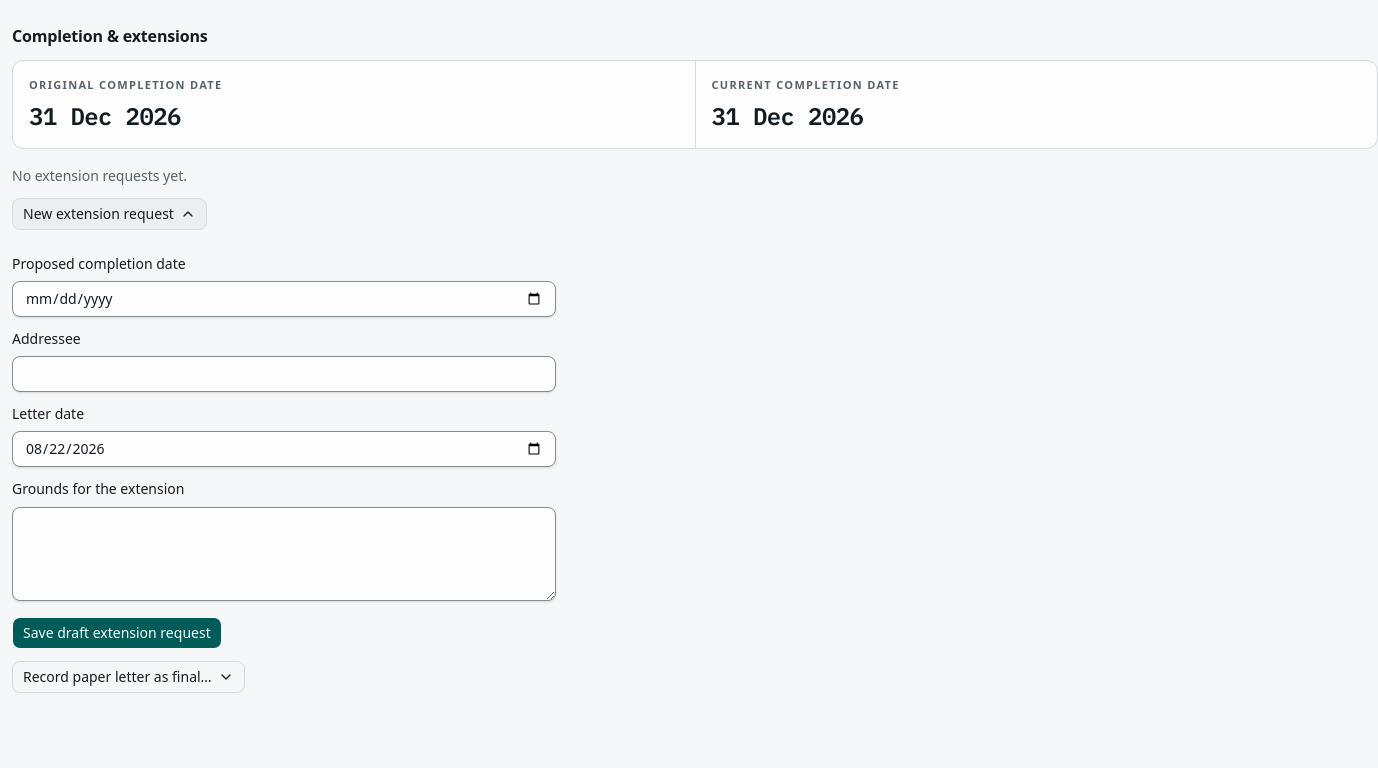
CompletionExtensions › switches to the existing draft on an EXTENSION_DRAFT_EXISTS conflict
Type "2027-03-31" into the date field labelled "Proposed completion date" at {"x": 284, "y": 299}, box top-left (12, 281), bottom-right (556, 317)
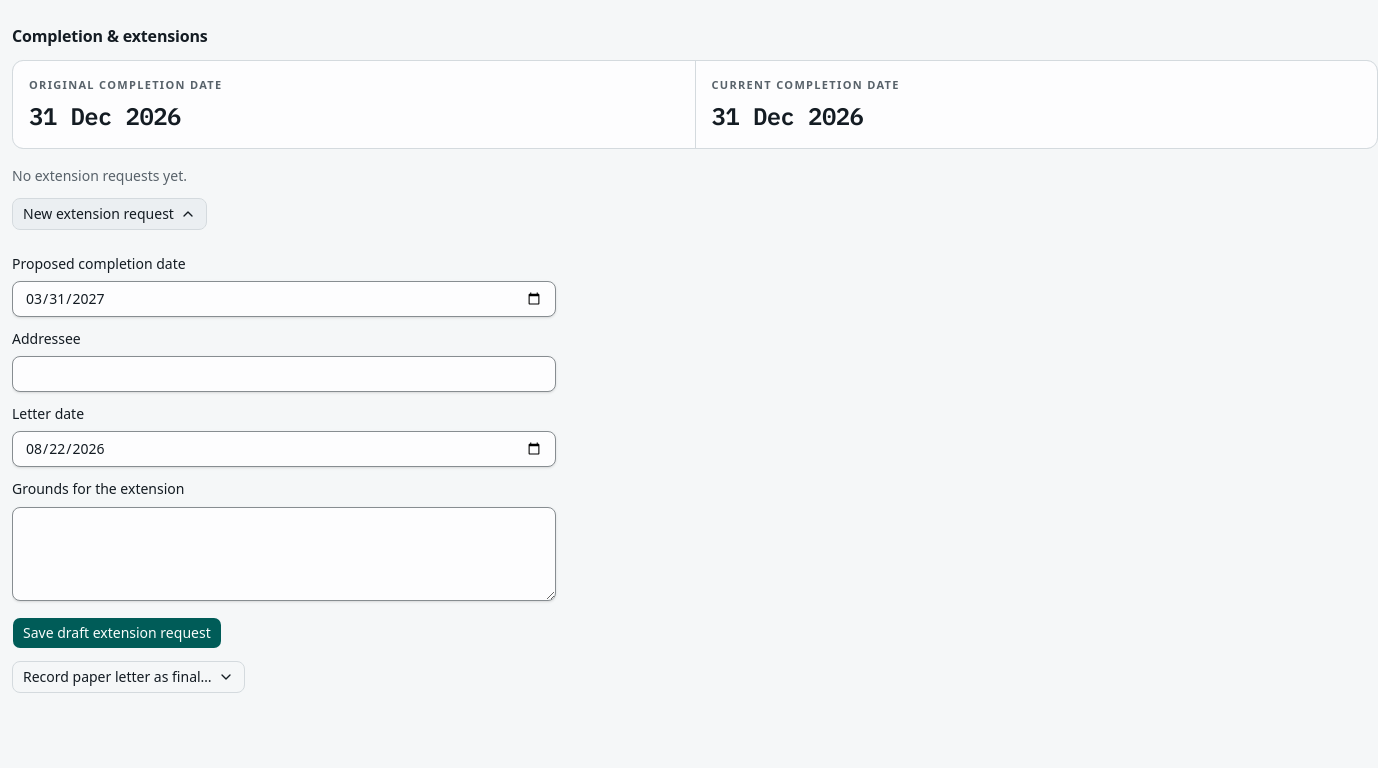
Type "Sr. DEE (G) NR" into the field labelled "Addressee" at {"x": 284, "y": 374}, box top-left (12, 356), bottom-right (556, 392)
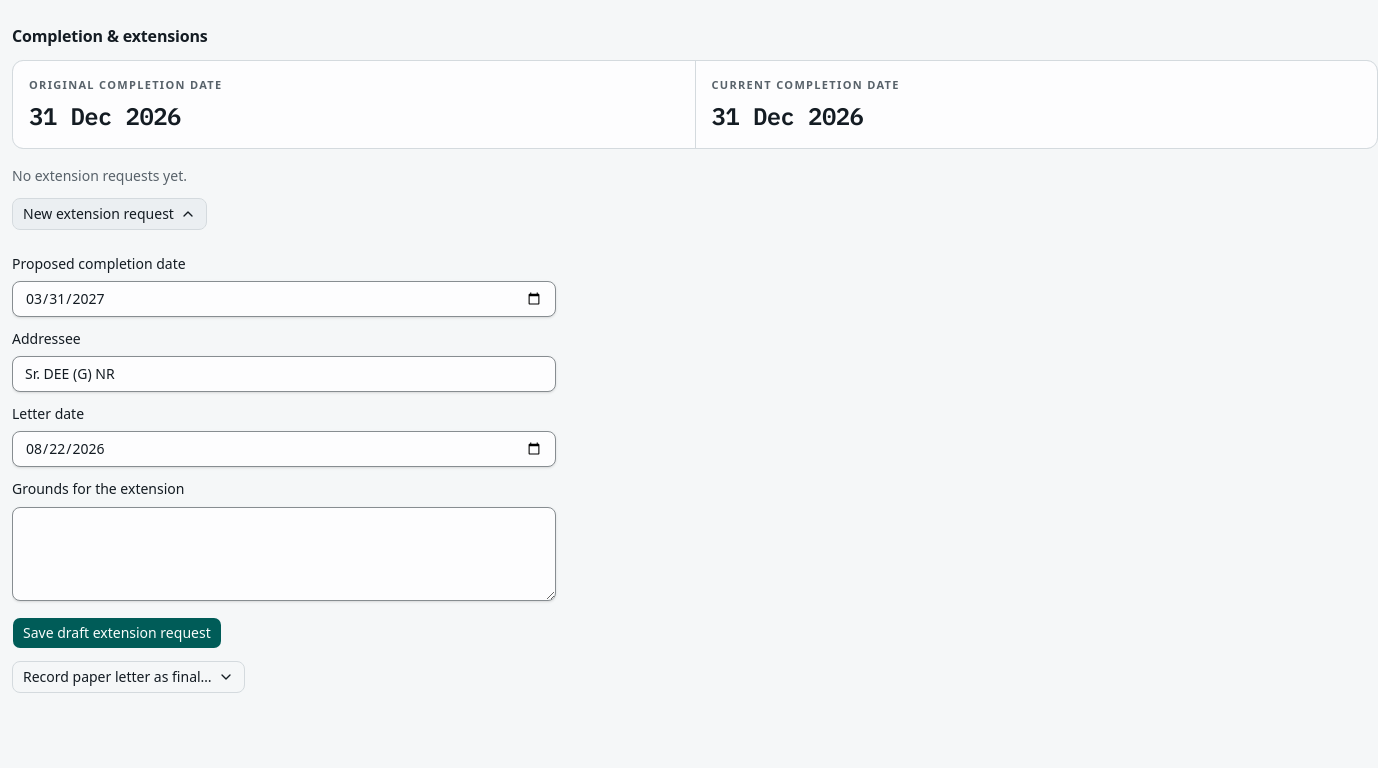
Type "2026-08-01" into the date field labelled "Letter date" at {"x": 284, "y": 449}, box top-left (12, 431), bottom-right (556, 467)
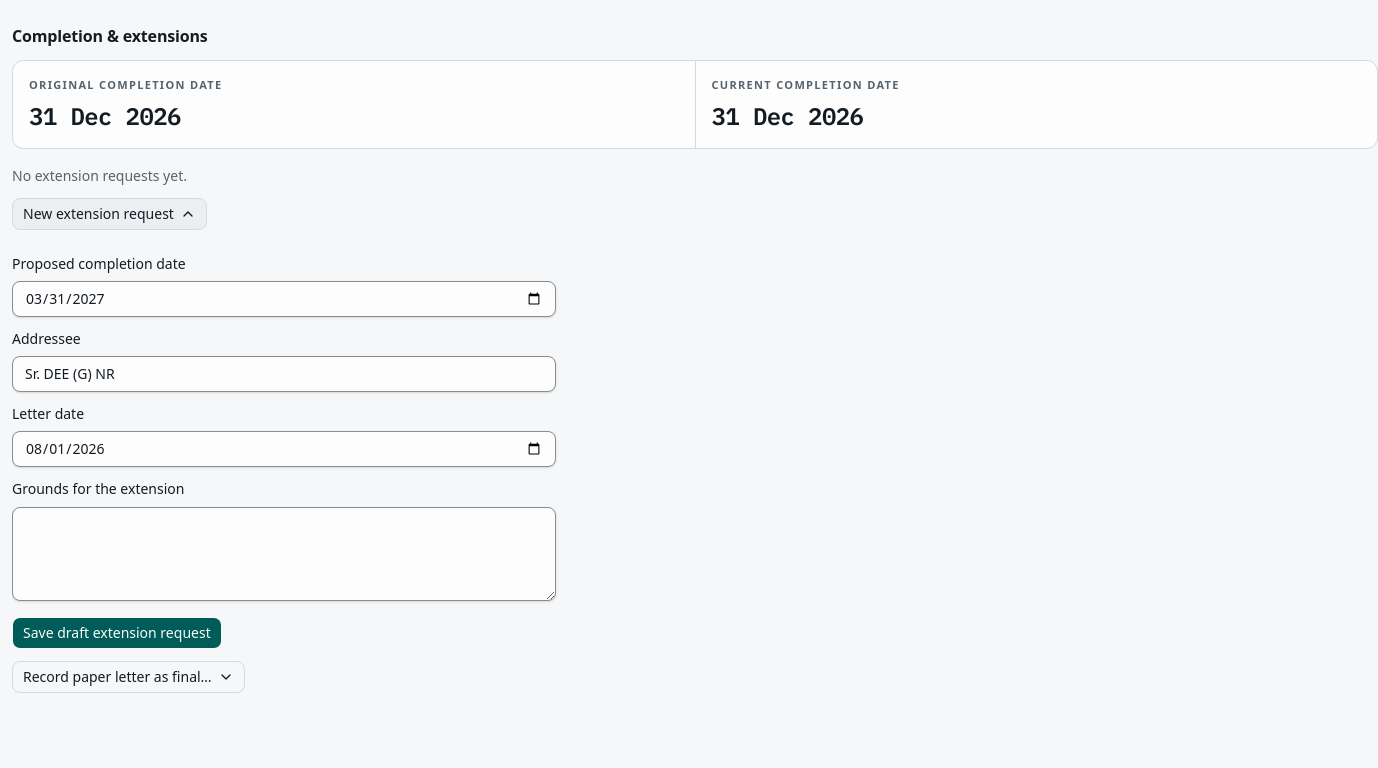
Type "Site not handed over in time." into the text box labelled "Grounds for the extension" at {"x": 284, "y": 554}, box top-left (12, 506), bottom-right (556, 600)
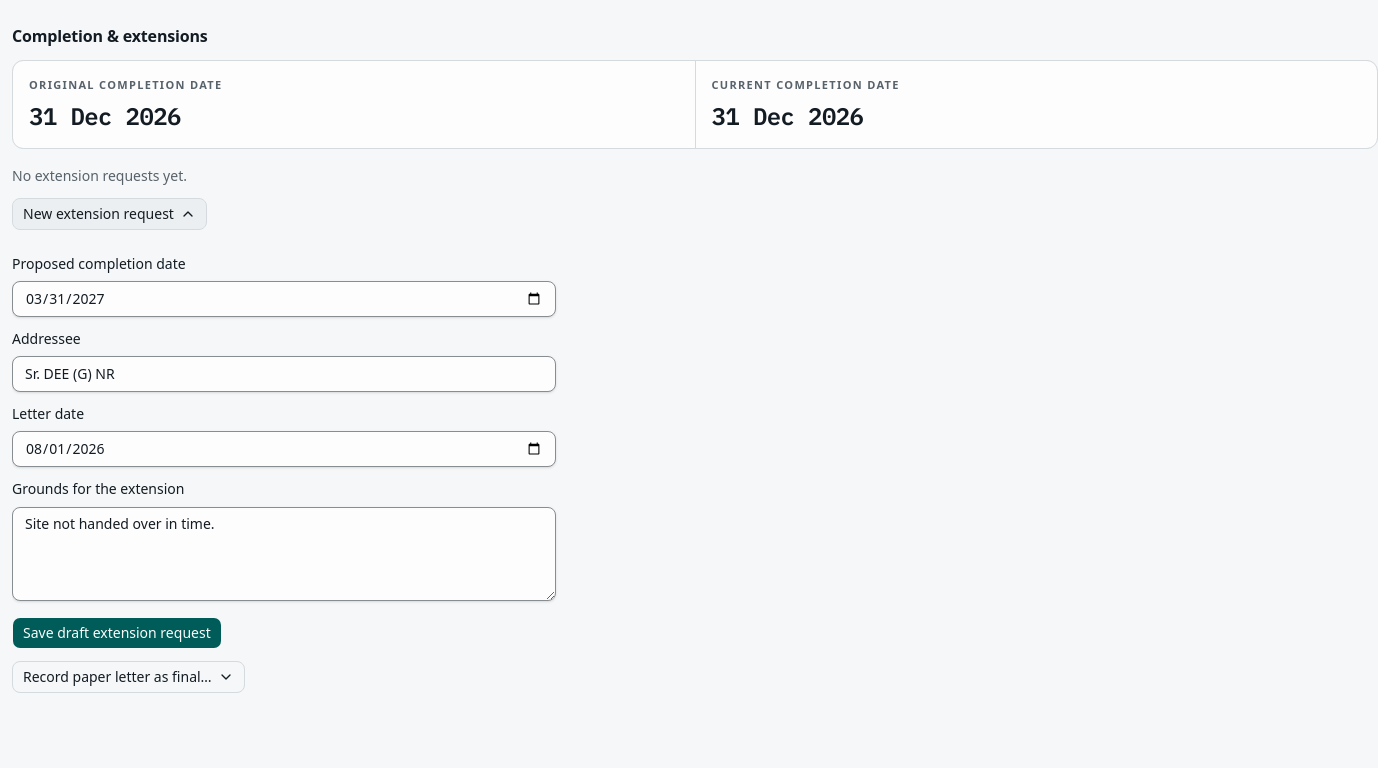
Click the button "Save draft extension request" at {"x": 117, "y": 632}, box top-left (12, 616), bottom-right (222, 648)
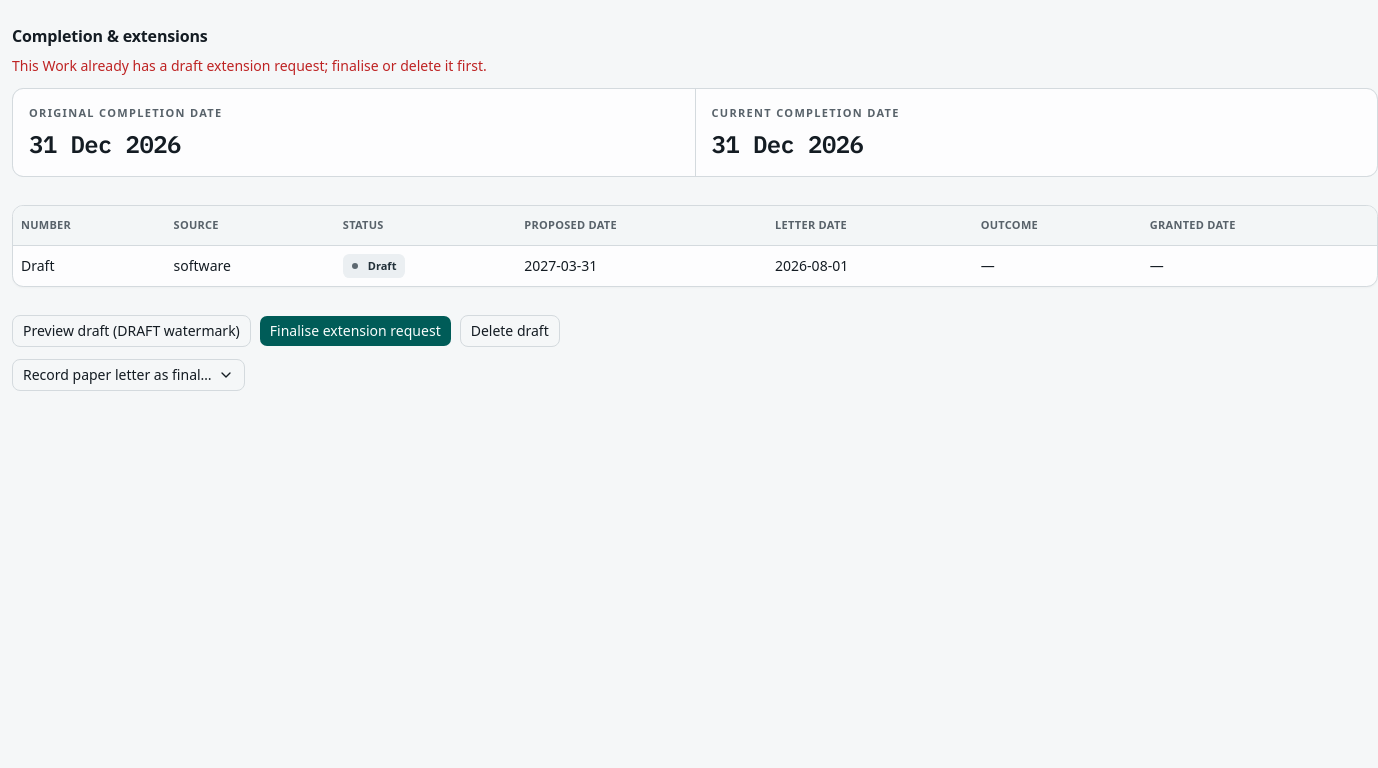
Expected: the message shows "already has a draft extension request", top-left (12, 56), bottom-right (487, 75)
Expected: the button "Finalise extension request" is shown, top-left (259, 314), bottom-right (452, 346)
